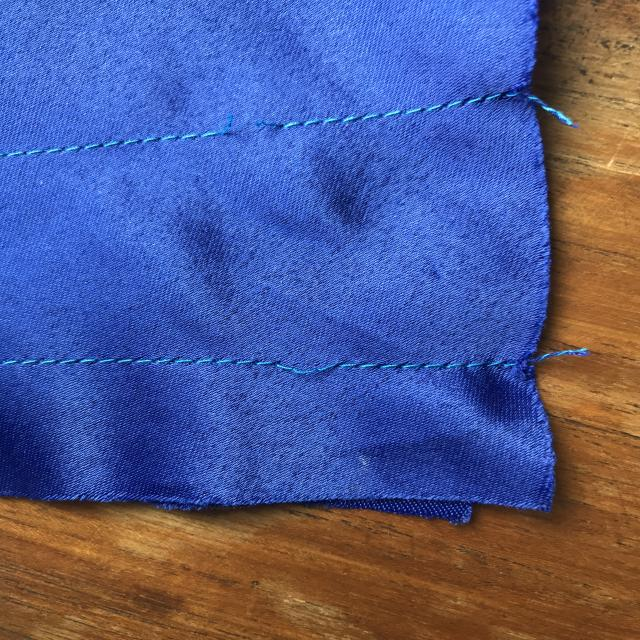broken: (172, 101, 302, 157)
good: (49, 344, 179, 390)
skip: (249, 332, 364, 398)
